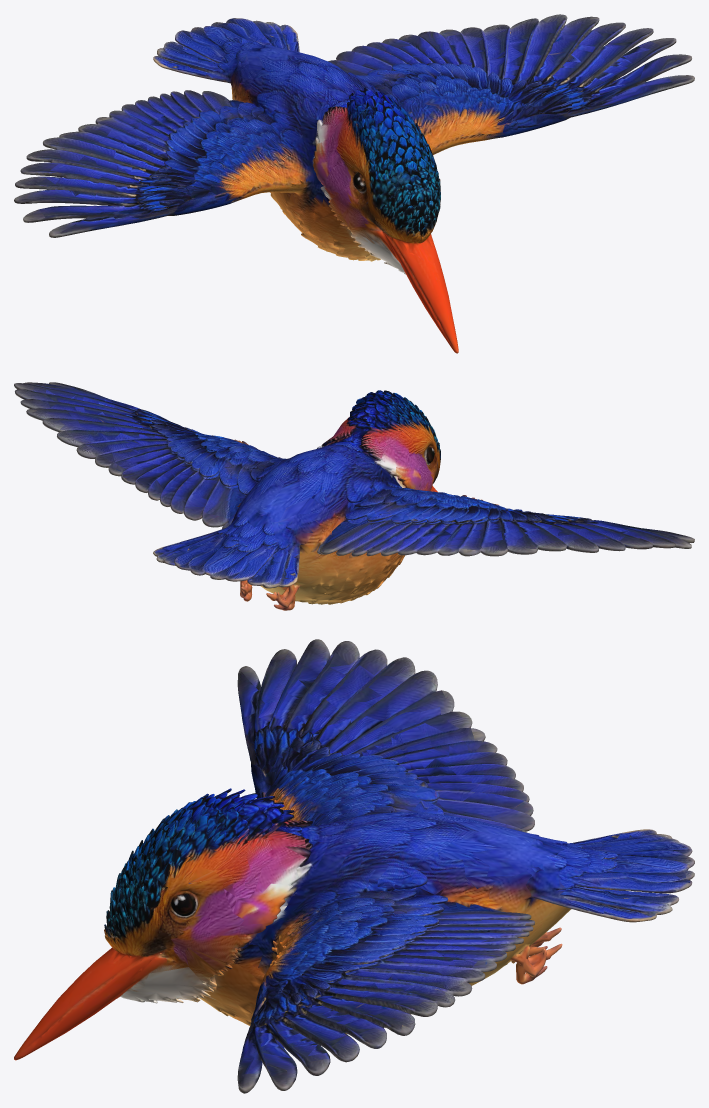
File: Ispidina_picta.glb
The picture shows the model from 3 angles, top to bottom: view 1: azimuth 30°, elevation 25°; view 2: azimuth 150°, elevation 25°; view 3: azimuth 270°, elevation 25°; orthographic projection. The views are drawn at different scales.
Parts seen in each view (by area): view 1: orient; view 2: orient; view 3: orient.
Part boxes in pixels (bbox=[...]): orient: bbox=[14, 14, 694, 353]; orient: bbox=[14, 382, 694, 610]; orient: bbox=[14, 639, 694, 1093].
Bounding box in the file's own units: 0.5 × 0.1421 × 0.328.
1 material, 1 textured.
